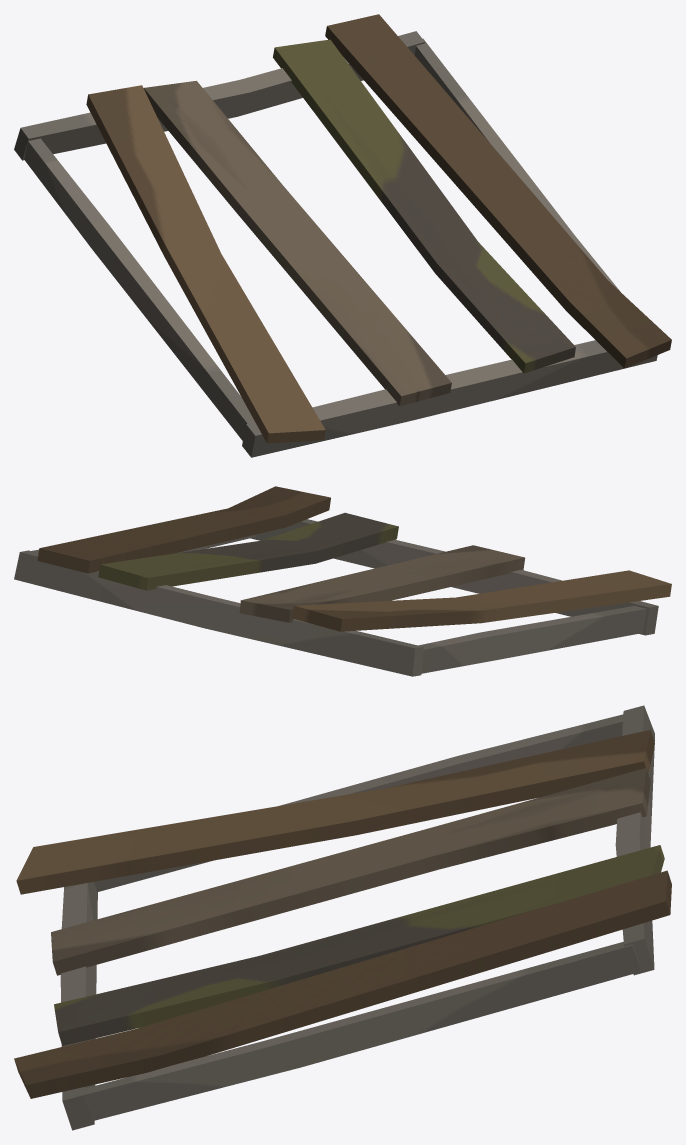
The model's file is SM_Bld_Roof_Wood_02.fbx.
3 renders of one model, top to bottom at view 1: azimuth 30°, elevation 25°; view 2: azimuth 150°, elevation 25°; view 3: azimuth 270°, elevation 25°, orthographic. The views are drawn at different scales.
Parts seen in each view (by area): view 1: SM_Bld_Roof_Wood_02; view 2: SM_Bld_Roof_Wood_02; view 3: SM_Bld_Roof_Wood_02.
Boxes of the visible parts, x1=… form: SM_Bld_Roof_Wood_02: x1=14, y1=14, x2=671, y2=457; SM_Bld_Roof_Wood_02: x1=14, y1=486, x2=671, y2=676; SM_Bld_Roof_Wood_02: x1=14, y1=705, x2=671, y2=1130.
Size of the model in its own units: 254 by 105 by 296.
Materials: 1 (1 with a texture image).
